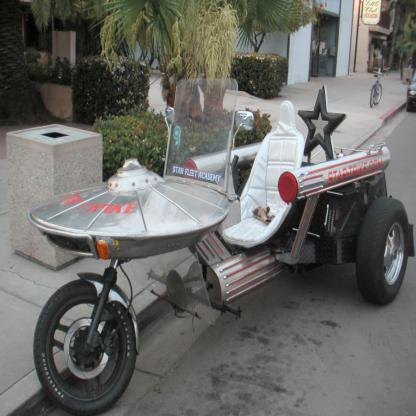Car: (406, 69, 415, 113)
